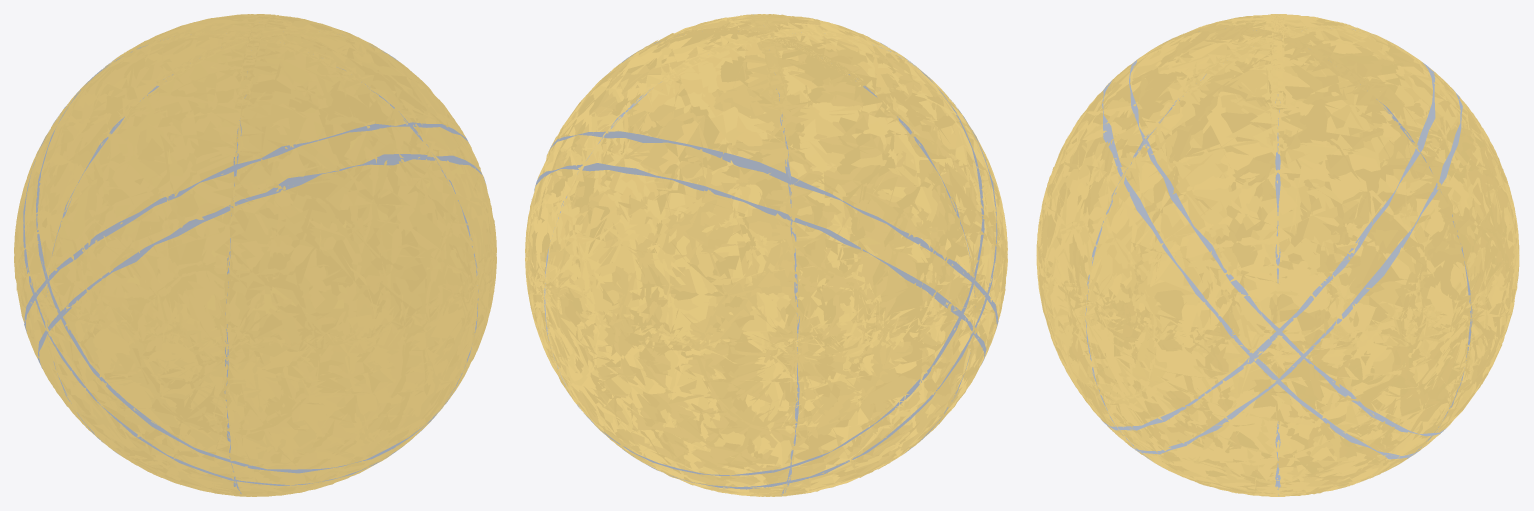
The picture shows the model from 3 angles, left to right: view 1: azimuth 30°, elevation 25°; view 2: azimuth 150°, elevation 25°; view 3: azimuth 270°, elevation 25°; orthographic projection.
Parts seen in each view (by area): view 1: anodes, structure; view 2: anodes, structure; view 3: anodes, structure.
Part boxes in pixels (x1=…): anodes: x1=14, y1=14, x2=496, y2=496; structure: x1=23, y1=38, x2=485, y2=493; anodes: x1=525, y1=14, x2=1007, y2=496; structure: x1=534, y1=14, x2=998, y2=495; anodes: x1=1036, y1=14, x2=1519, y2=496; structure: x1=1085, y1=28, x2=1472, y2=495.
Size of the model in its own units: 2 by 2 by 2.
